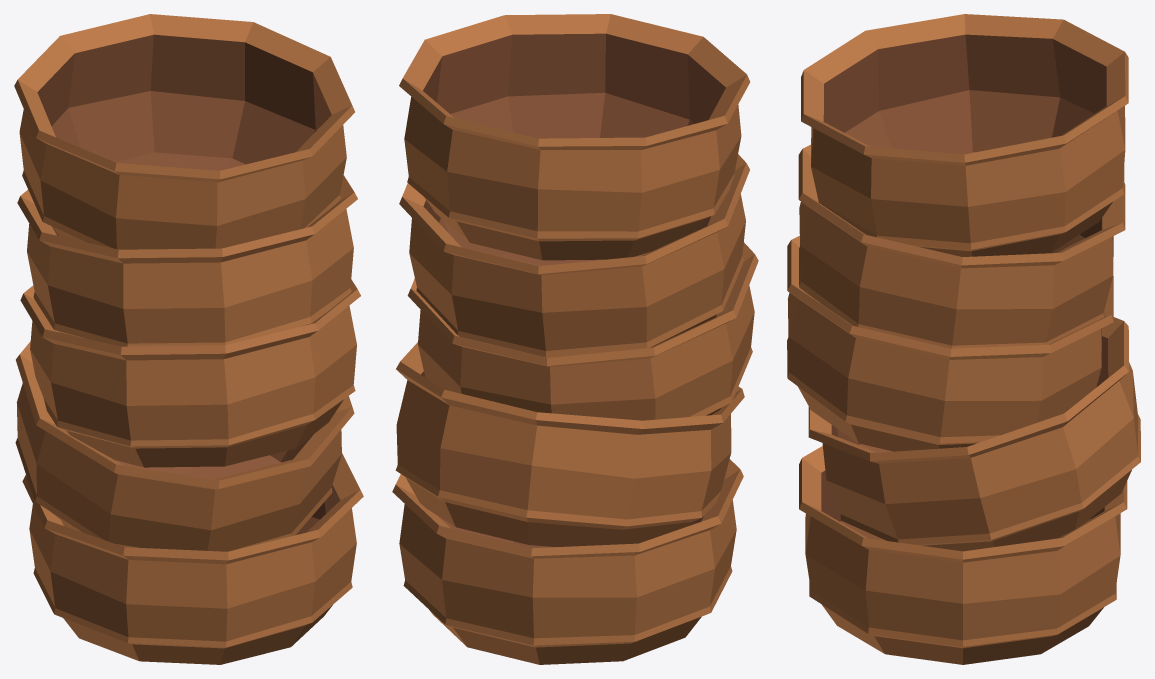
File: SM_Prop_Copper_Bowl_Large_Stack_01.glb
3 views of the same model, side by side, from view 1: azimuth 30°, elevation 25°; view 2: azimuth 150°, elevation 25°; view 3: azimuth 270°, elevation 25° (orthographic). The views are drawn at different scales.
Parts seen in each view (by area): view 1: SM_Prop_Copper_Bowl_Large_Stack_01; view 2: SM_Prop_Copper_Bowl_Large_Stack_01; view 3: SM_Prop_Copper_Bowl_Large_Stack_01.
Boxes of the visible parts, left/top/right/bottom form: SM_Prop_Copper_Bowl_Large_Stack_01: left=14, top=14, right=363, bottom=664; SM_Prop_Copper_Bowl_Large_Stack_01: left=392, top=14, right=758, bottom=664; SM_Prop_Copper_Bowl_Large_Stack_01: left=787, top=14, right=1140, bottom=664.
Size of the model in its own units: 1.39 by 2.34 by 1.39.
Materials: 1 (1 with a texture image).
